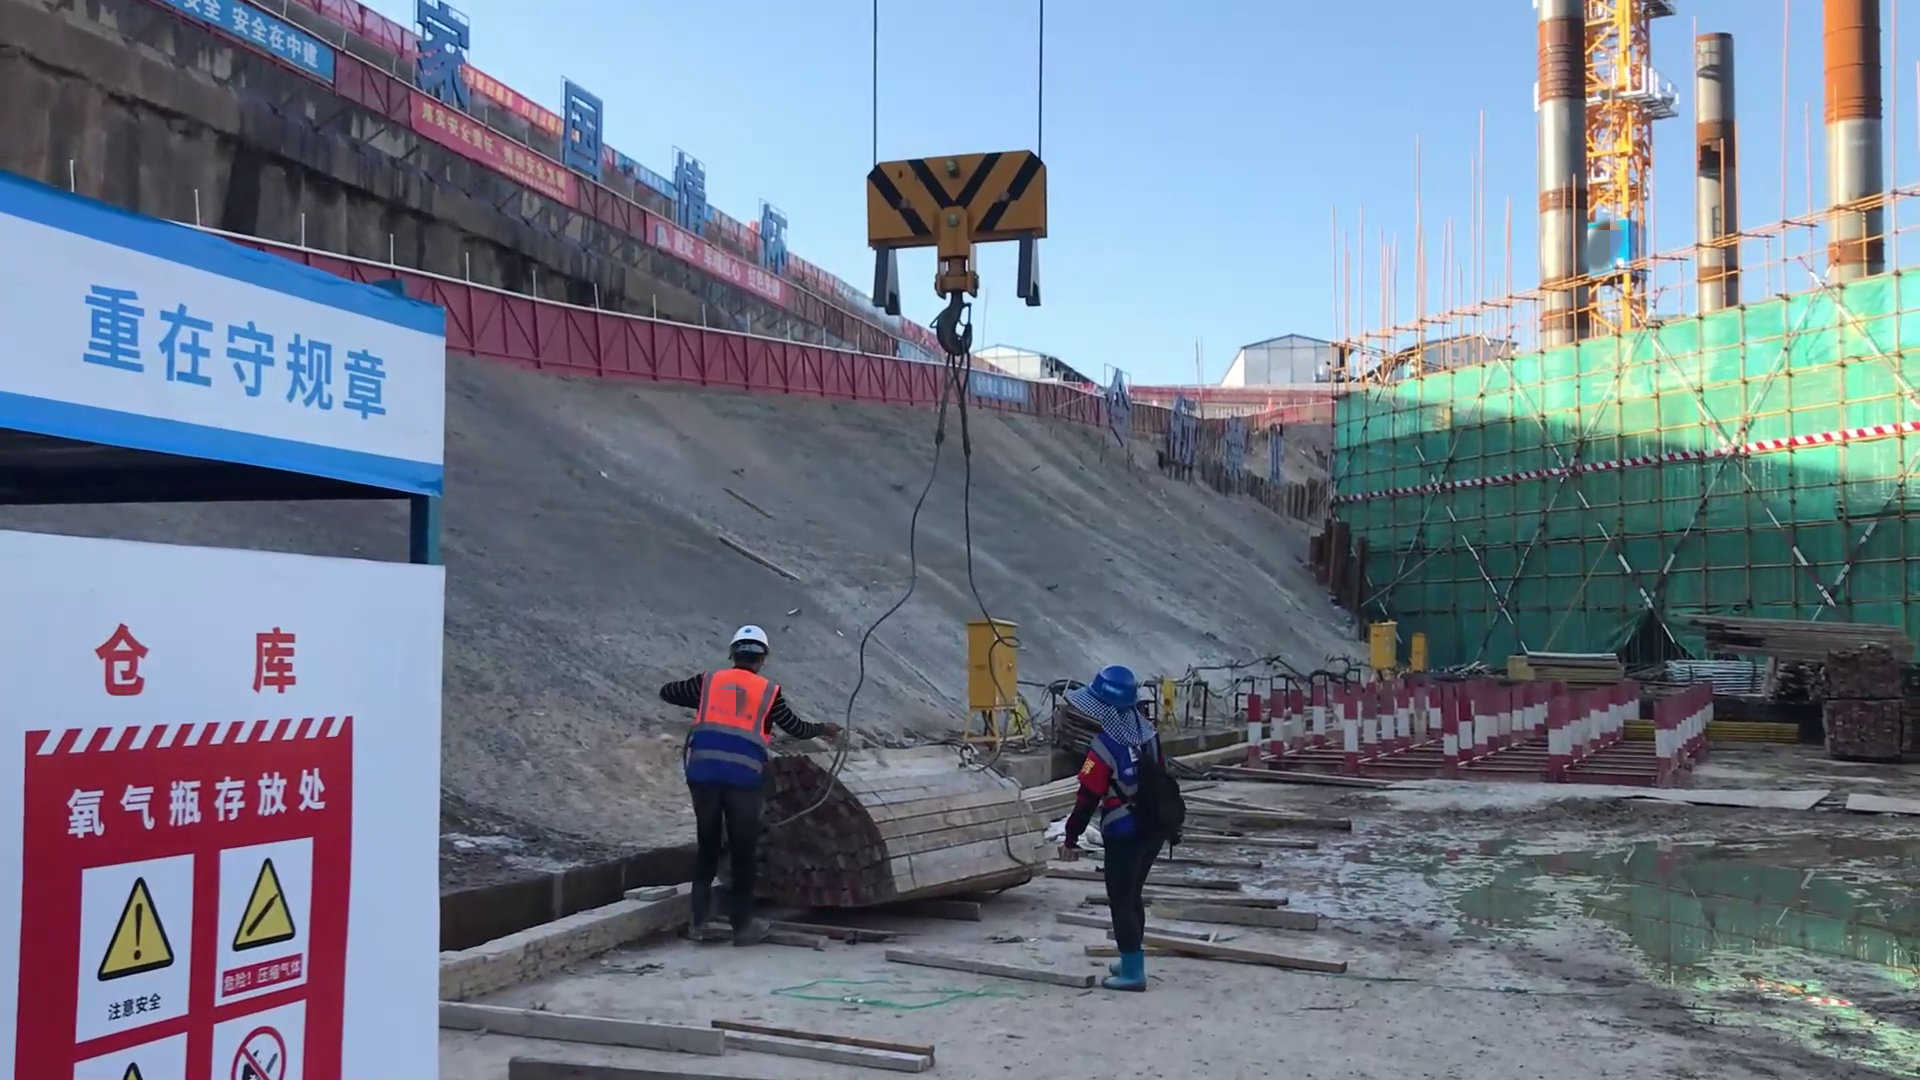ebox: (952, 602, 1040, 727), (1366, 618, 1396, 669), (1405, 630, 1424, 675)
fence: (453, 297, 780, 402), (776, 330, 937, 400)
helmet: (1085, 662, 1141, 720), (723, 619, 765, 653)
hook: (862, 129, 1045, 298)
person: (1040, 649, 1184, 1005), (656, 612, 803, 949)
slogan: (38, 712, 345, 1080), (49, 288, 412, 424), (130, 2, 328, 111), (413, 95, 576, 202)
vest: (696, 663, 788, 741)
wood: (808, 746, 1036, 912), (1660, 601, 1897, 681)
